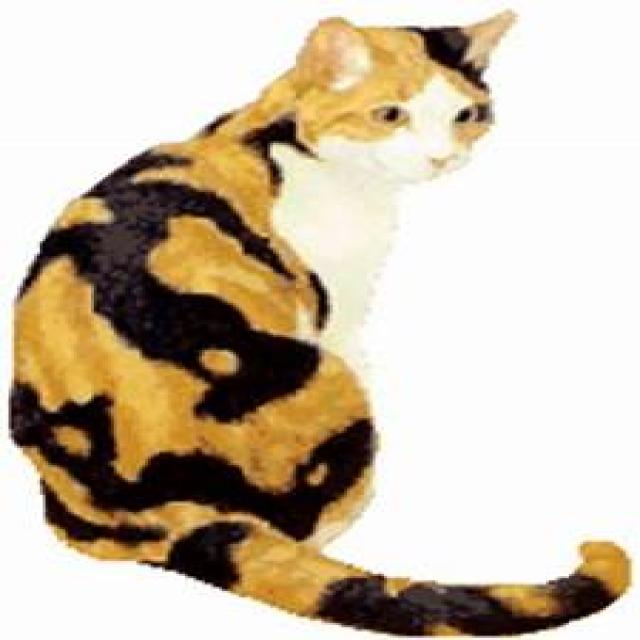animal: (6, 6, 632, 638)
